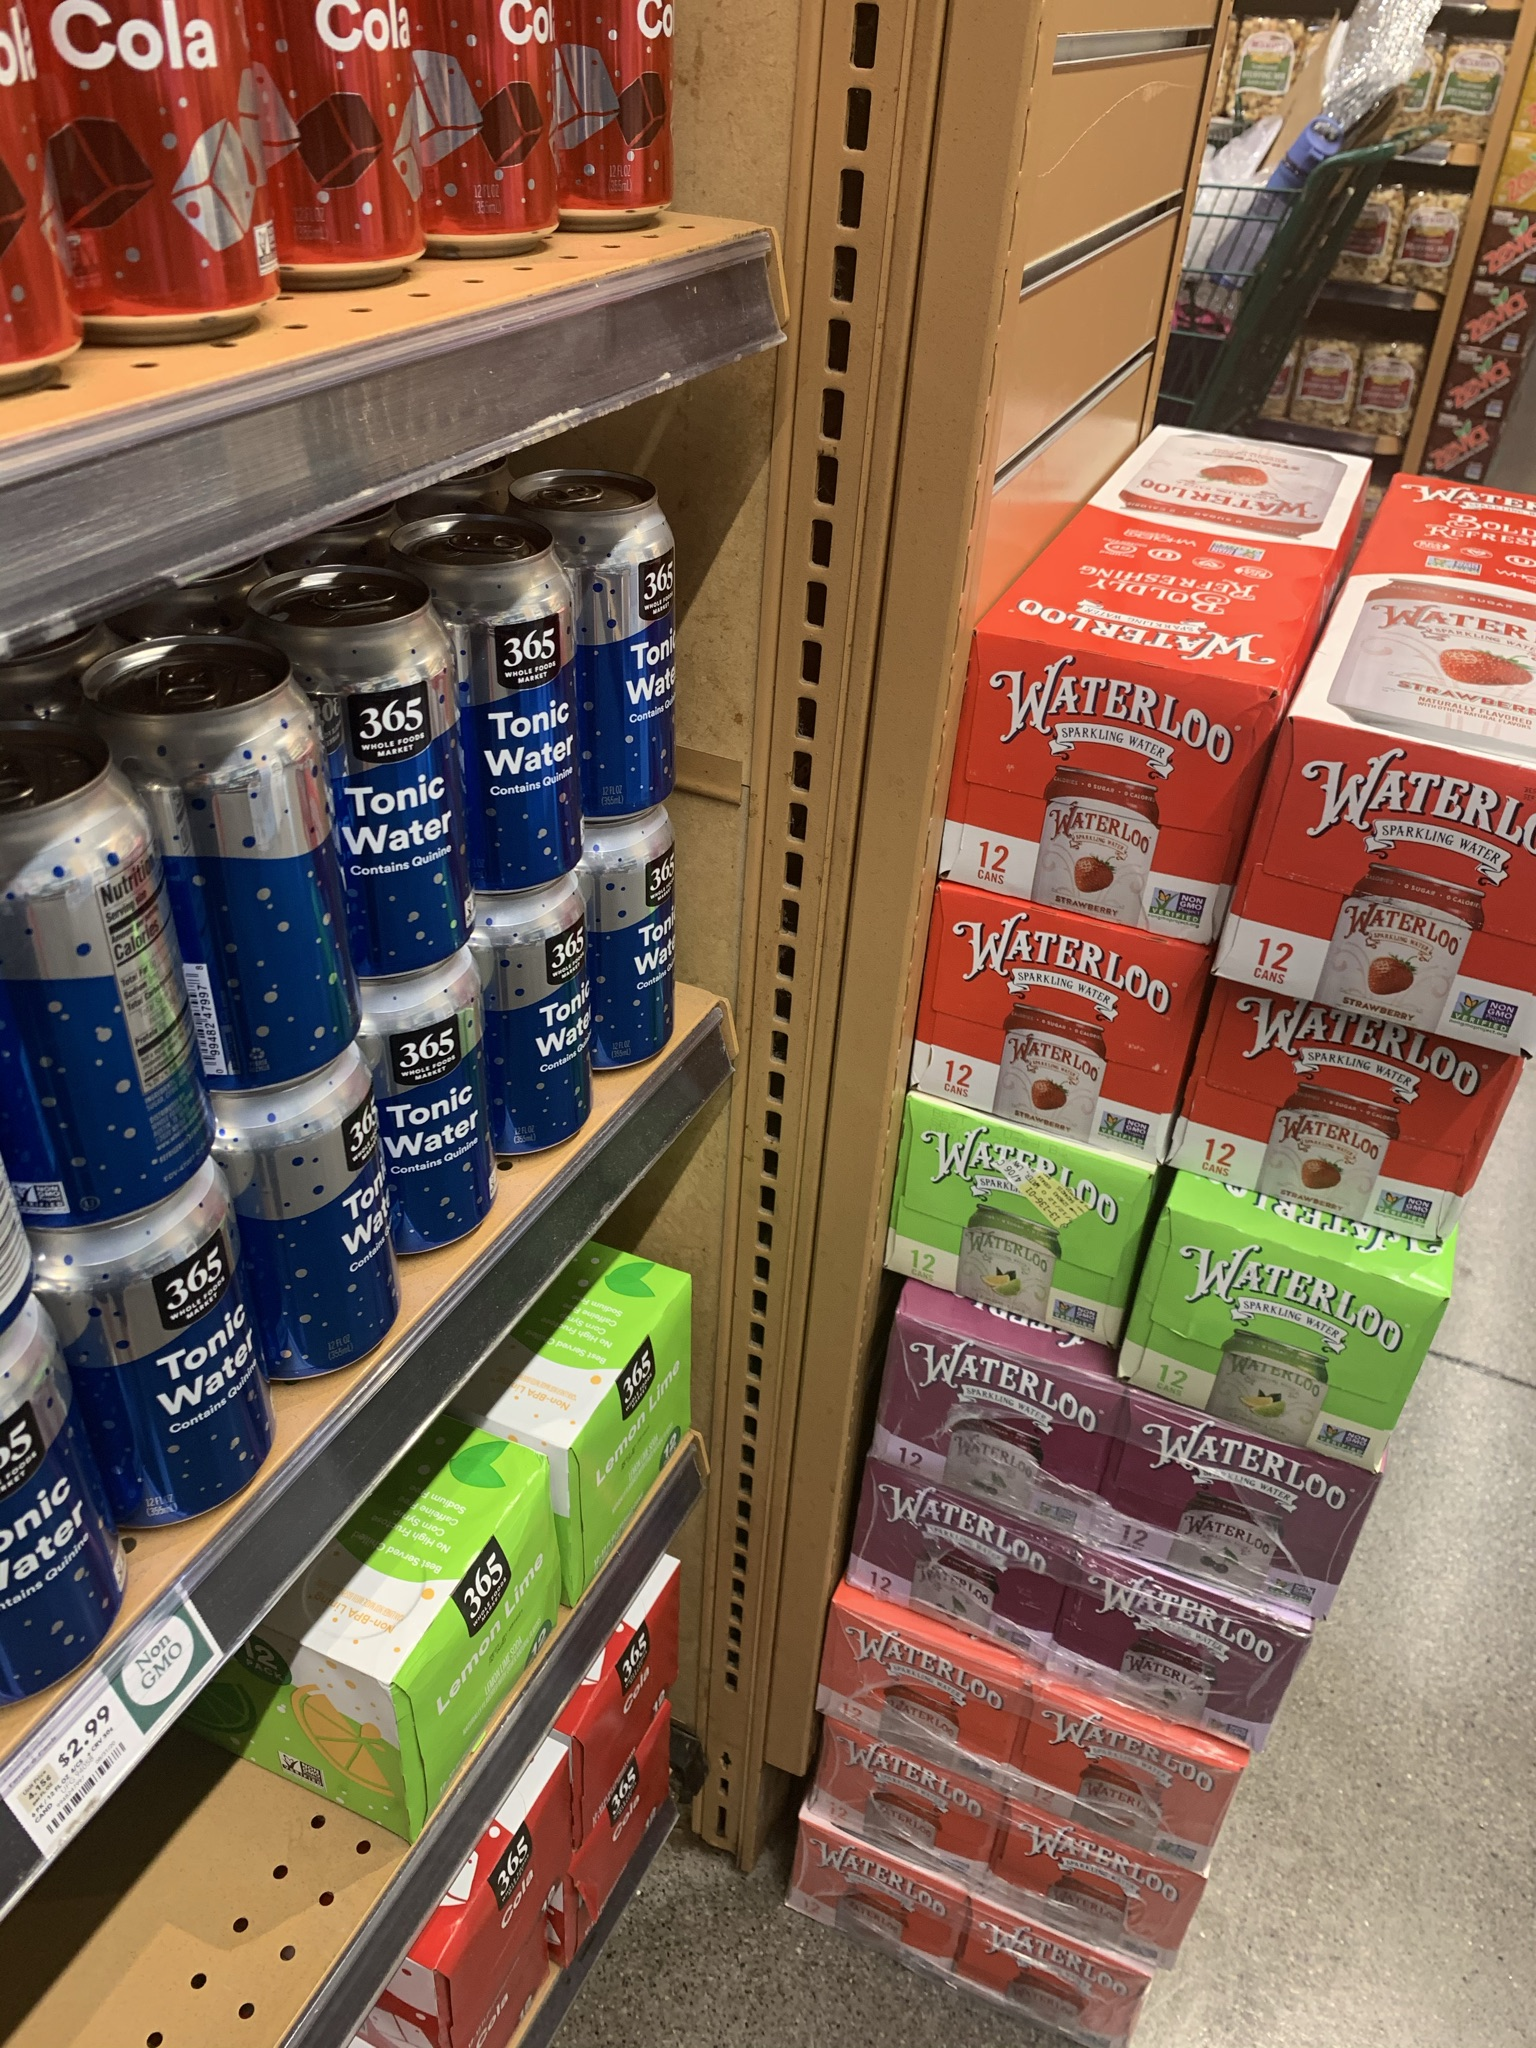tonic soda: (129, 697, 374, 1074), (27, 824, 227, 1192), (297, 626, 482, 959), (432, 566, 594, 910), (53, 1251, 278, 1492), (557, 506, 715, 821), (257, 1114, 402, 1379), (387, 992, 516, 1234), (508, 934, 616, 1174), (603, 848, 689, 1101)
watreloo sparkling water: (839, 1592, 1144, 2048), (994, 648, 1229, 948), (1304, 726, 1499, 1039), (921, 1124, 1134, 1359), (1247, 966, 1430, 1229), (1142, 1376, 1329, 1624), (957, 914, 1158, 1135), (1192, 1209, 1389, 1430), (894, 1319, 1087, 1535)
